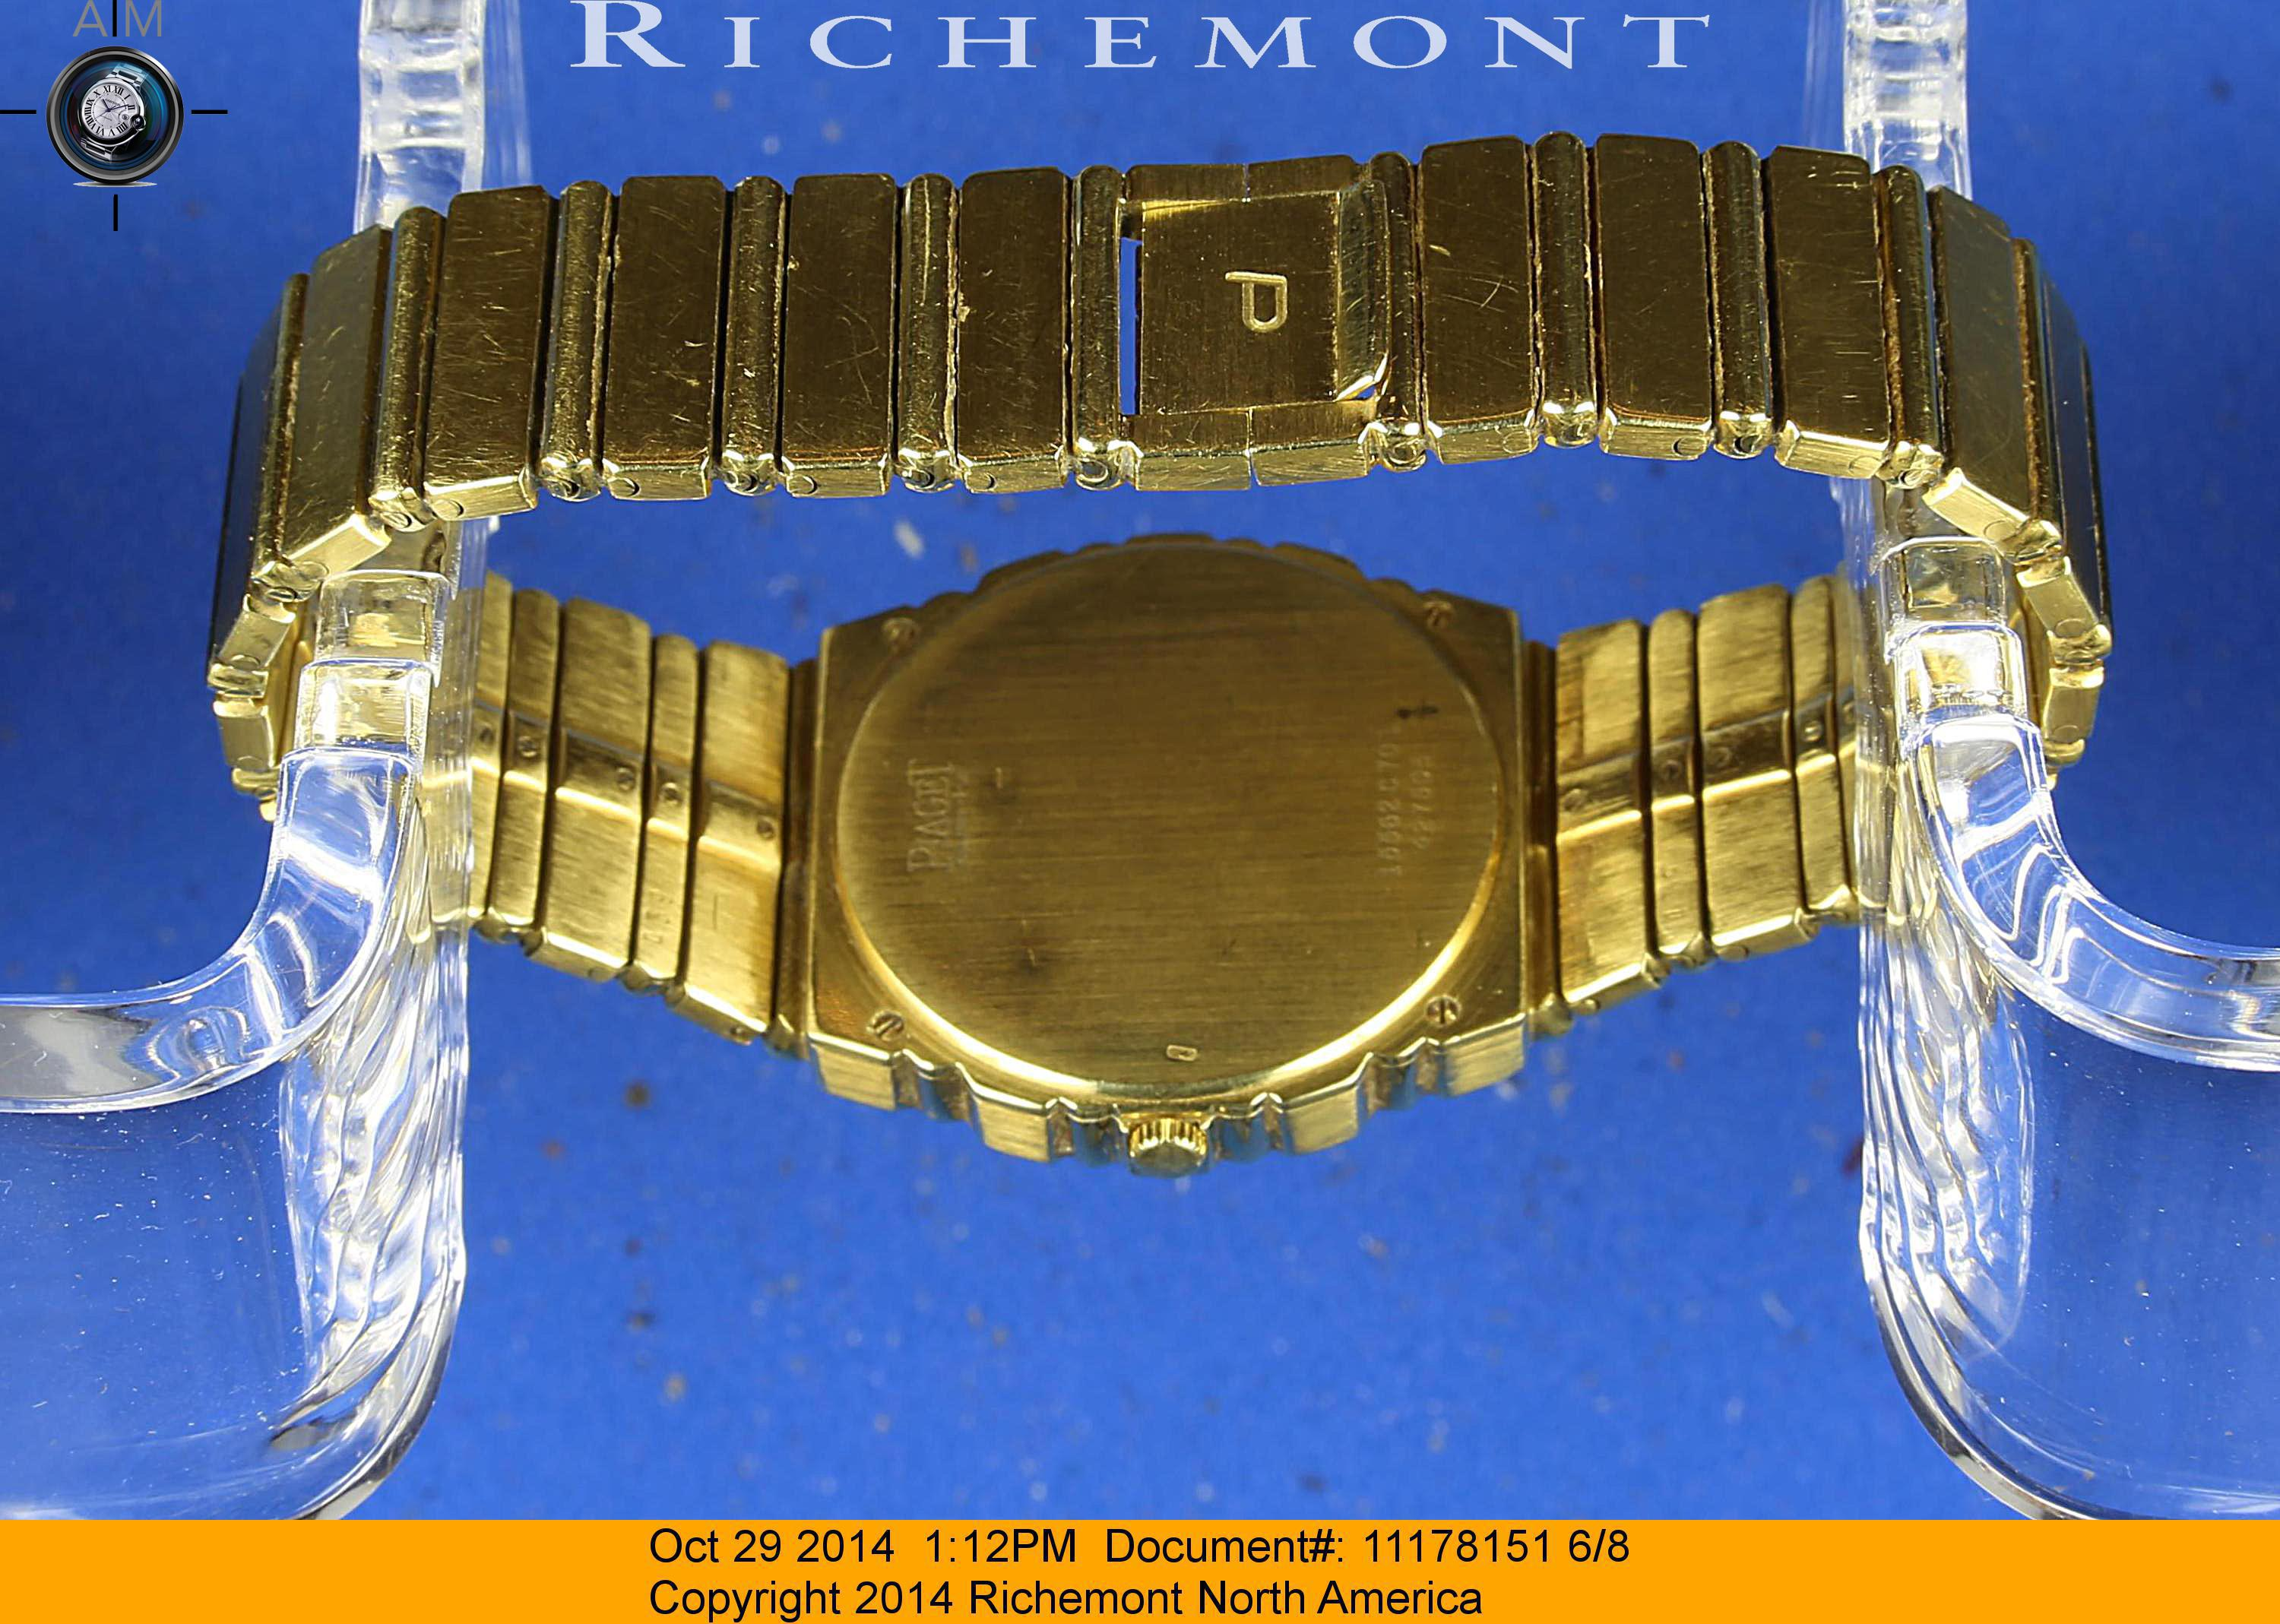Watch BackCase: (775, 522, 1549, 1199)
